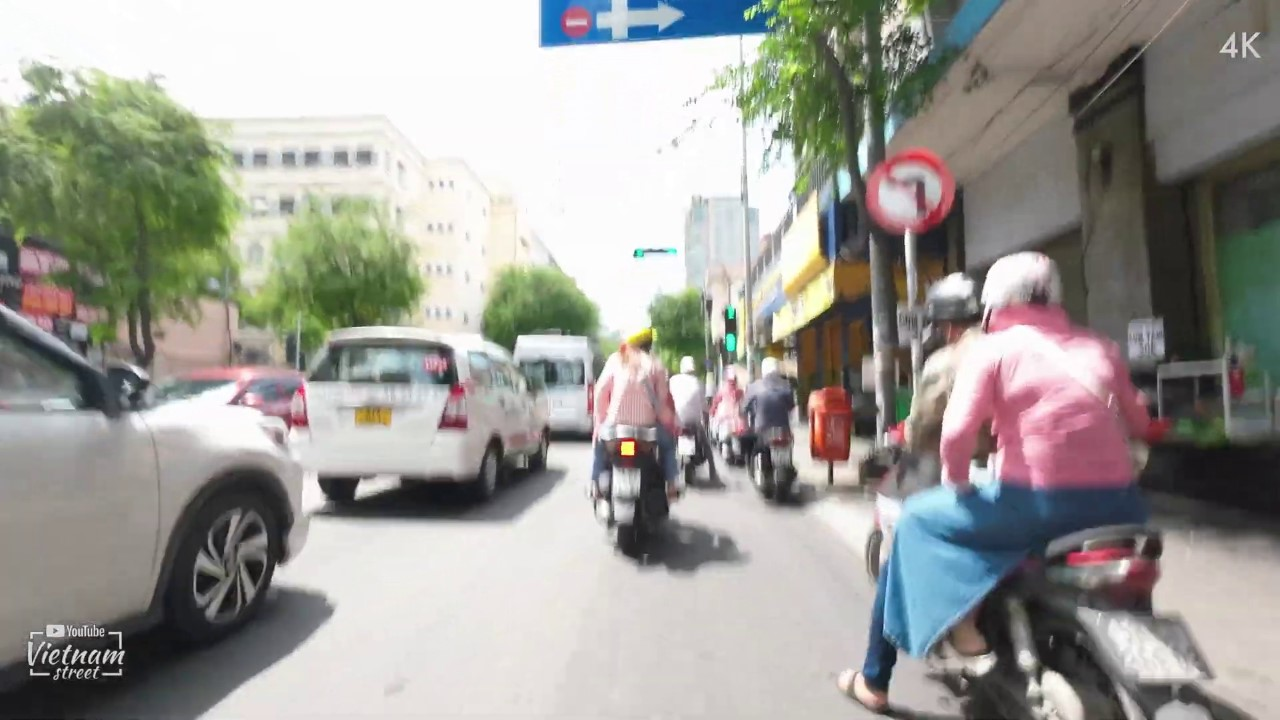cam_re_trai: (863, 150, 957, 234)
